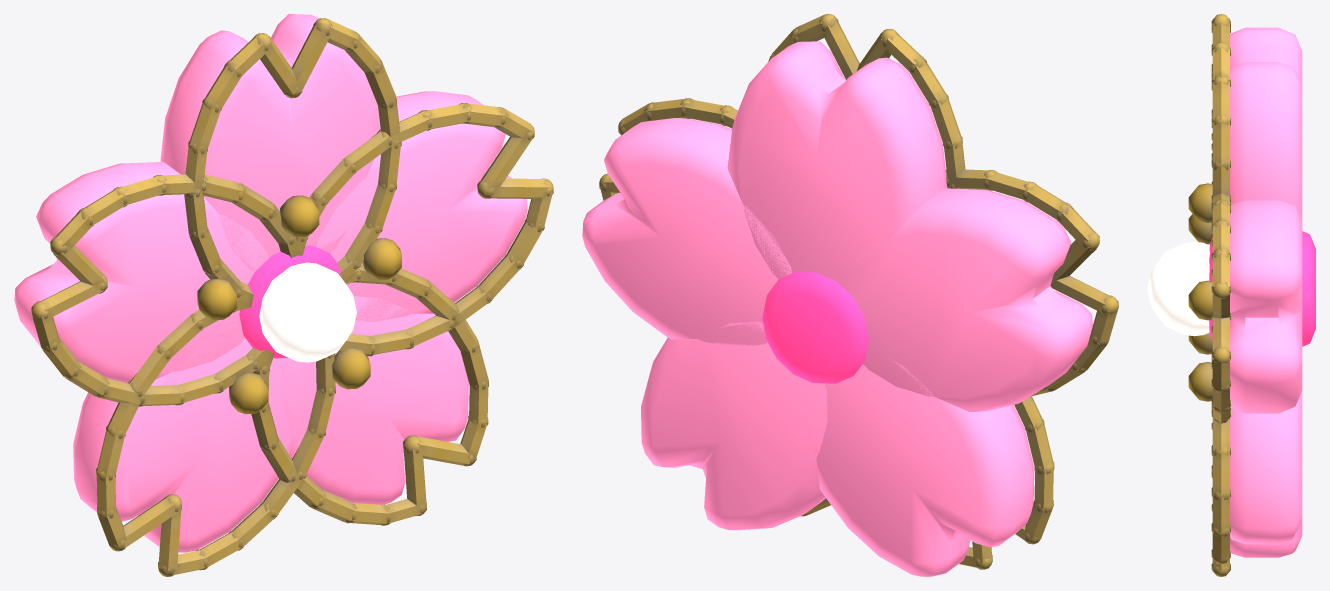
The model's file is cb_coin.glb.
The picture shows the model from 3 angles, left to right: view 1: azimuth 30°, elevation 25°; view 2: azimuth 150°, elevation 25°; view 3: azimuth 270°, elevation 25°; orthographic projection. The views are drawn at different scales.
Parts seen in each view (by area): view 1: cb_coin; view 2: cb_coin; view 3: cb_coin.
Part boxes in pixels (<box>): cb_coin: <box>14,14,553,576</box>; cb_coin: <box>582,14,1118,576</box>; cb_coin: <box>1147,14,1315,576</box>.
Size of the model in its own units: 0.8388 by 0.8023 by 0.25.
Materials: 4 (4 with a texture image).
